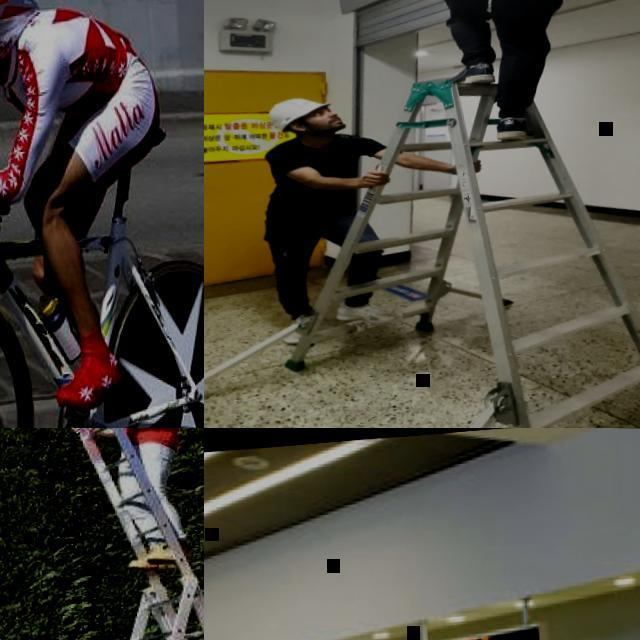Weapon: (224, 48, 398, 380)
objects: (265, 66, 378, 158)
